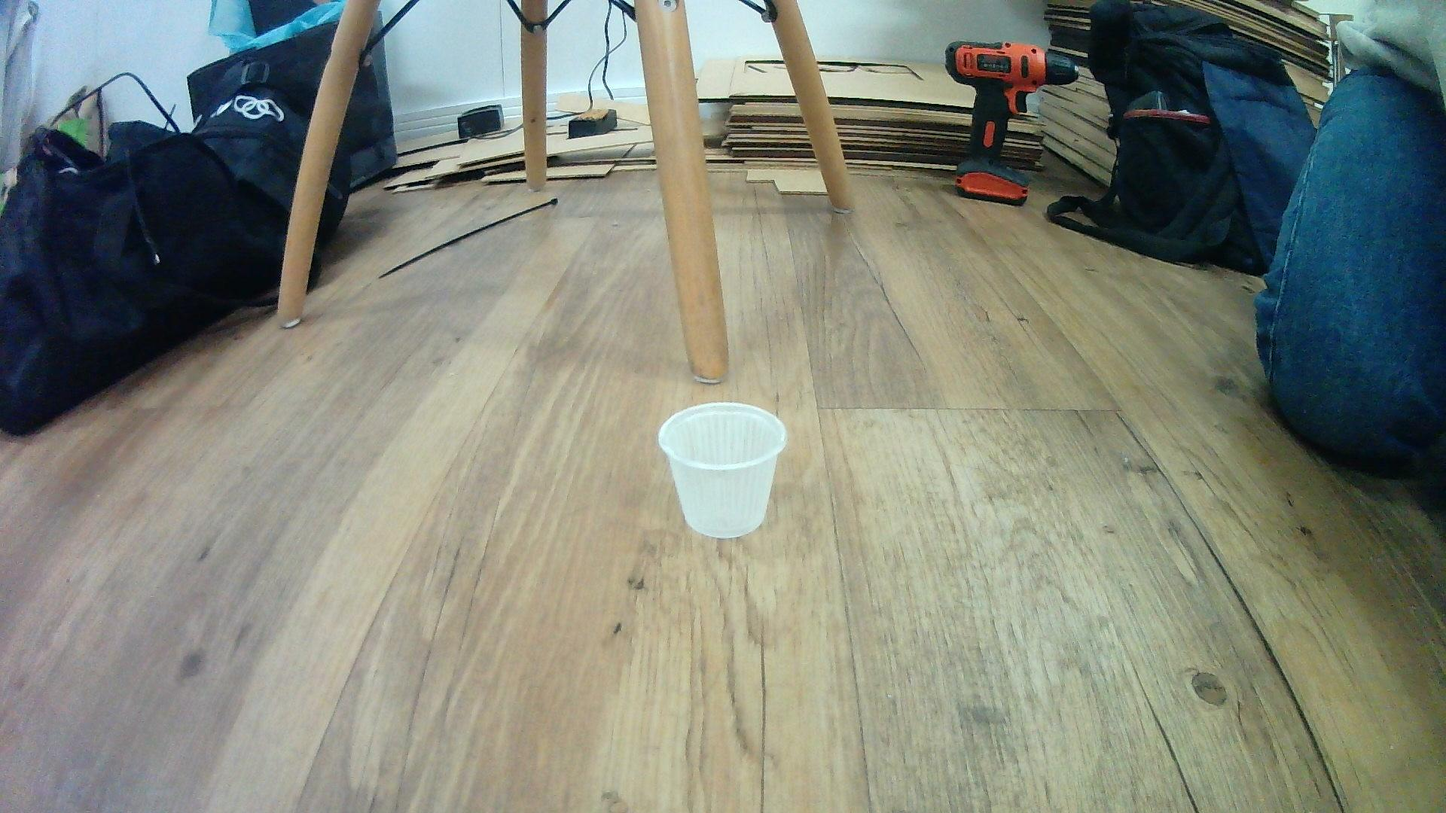planta: (657, 402, 788, 540)
